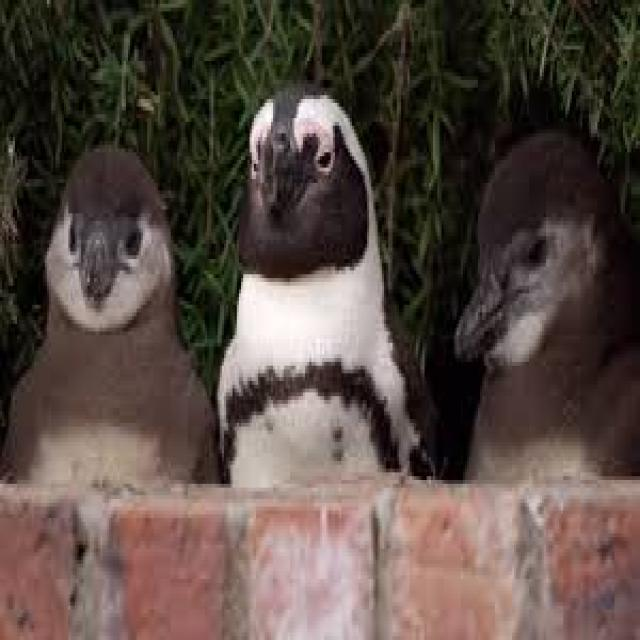penguin: (218, 84, 433, 484), (0, 145, 218, 484), (454, 130, 638, 480)
